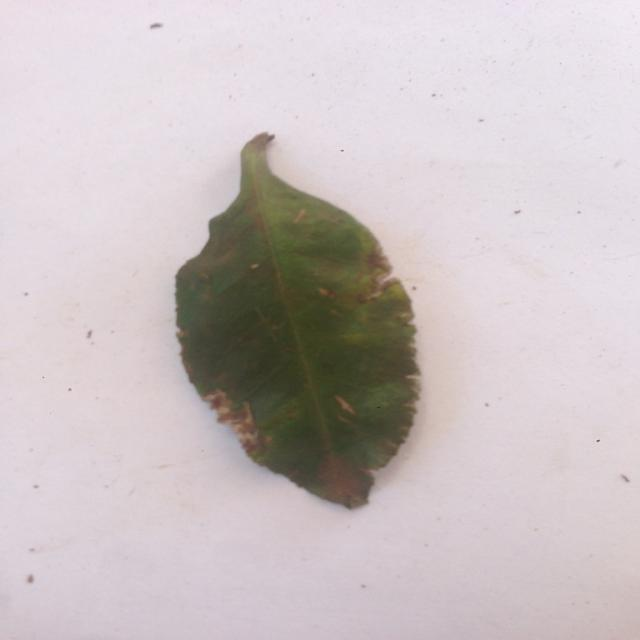Brown Blight: (162, 132, 447, 517)
